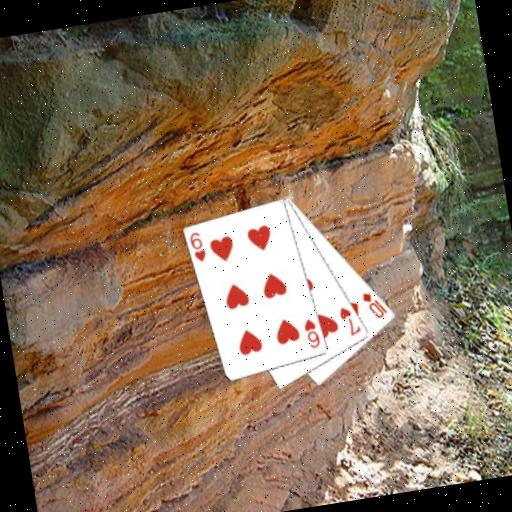10D: (359, 286, 390, 322)
6H: (300, 315, 323, 351), (185, 228, 208, 264)
7H: (335, 301, 363, 338)
